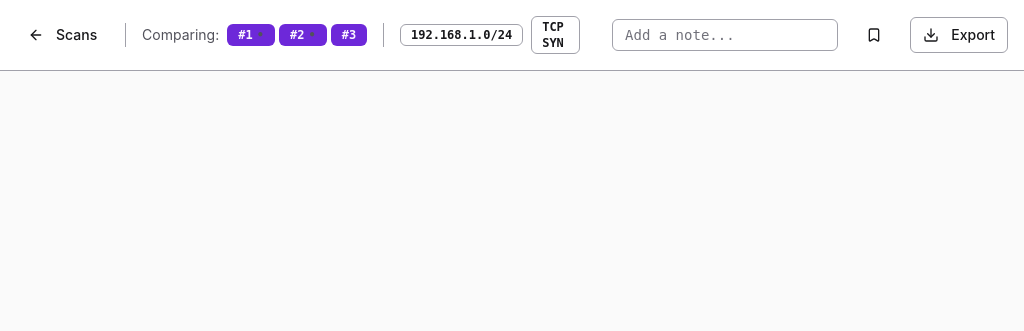
Test: ComparisonHeader Integration › opens export dropdown with format options
Click the button "Export" at x=959, y=35, box top-left (910, 17), bottom-right (1008, 53)
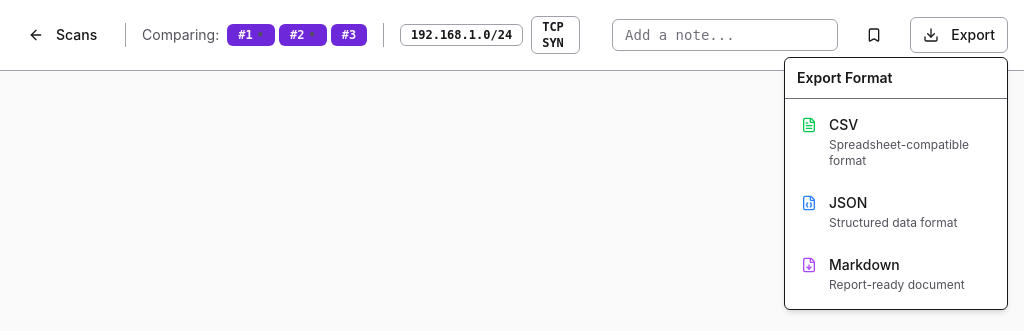
Result: the text "CSV" is shown at top-left (829, 116), bottom-right (858, 133)
Result: the text "JSON" is shown at top-left (829, 194), bottom-right (867, 211)
Result: the text "Markdown" is shown at top-left (829, 256), bottom-right (900, 273)
